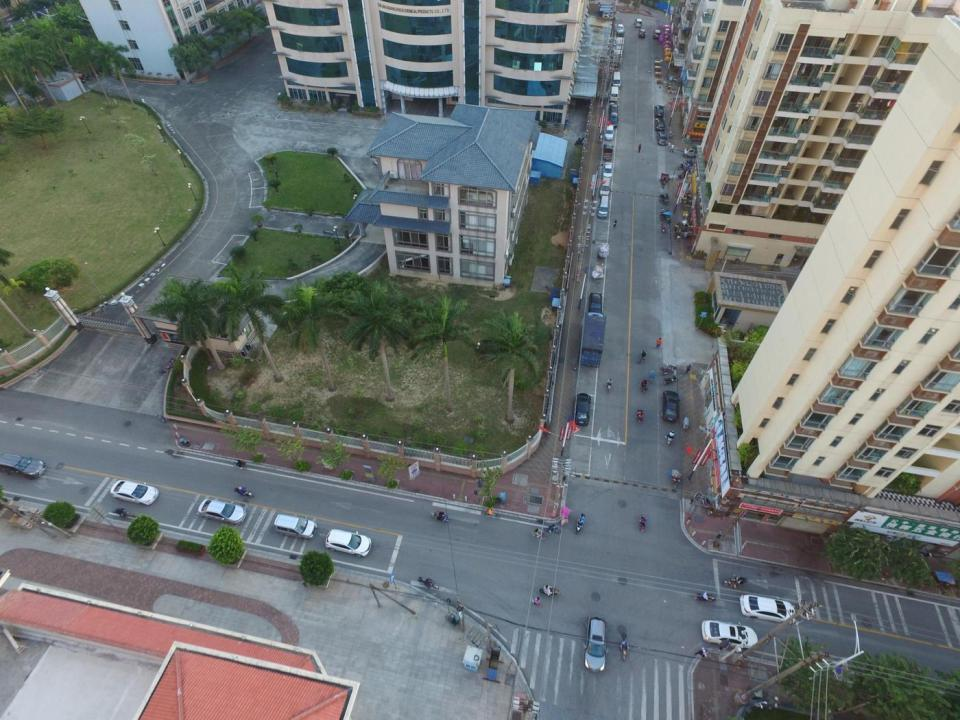car: (739, 594, 798, 625), (702, 620, 759, 652), (325, 528, 372, 558), (198, 498, 248, 526), (582, 616, 606, 674), (110, 479, 159, 506), (0, 453, 47, 480), (661, 390, 679, 423), (576, 392, 590, 425), (589, 291, 603, 318), (602, 162, 614, 180), (604, 124, 615, 142), (653, 104, 664, 118), (654, 116, 663, 132), (609, 111, 618, 127), (656, 131, 666, 145), (616, 22, 624, 36), (637, 27, 647, 38), (609, 104, 618, 115), (653, 28, 661, 40), (634, 16, 642, 27)
truck: (580, 315, 606, 369), (602, 142, 614, 160), (613, 46, 624, 64), (615, 36, 624, 52)
van: (273, 514, 317, 541), (683, 146, 710, 159), (598, 195, 610, 218), (600, 177, 611, 197), (610, 86, 620, 103), (612, 70, 621, 86)
